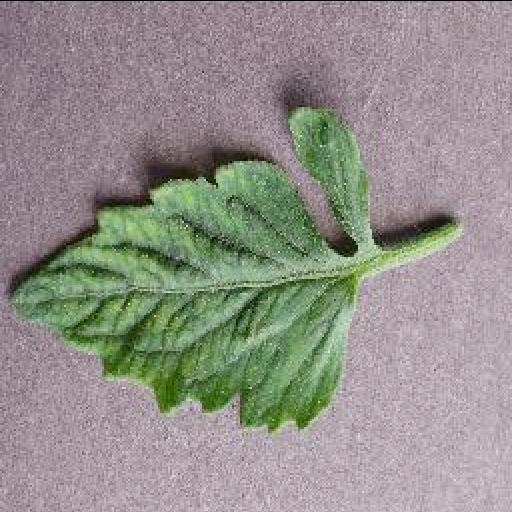Mosaic Virus: (6, 157, 356, 431)
